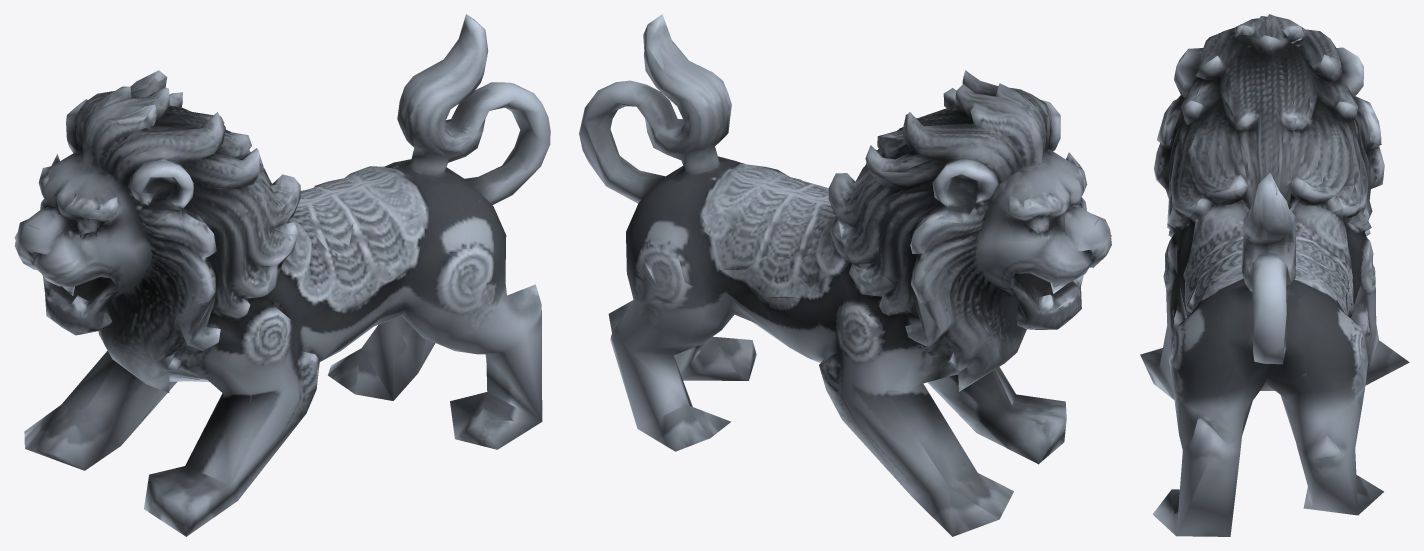
File: zoushou-shizi.glb
The picture shows the model from 3 angles, left to right: view 1: azimuth 30°, elevation 25°; view 2: azimuth 150°, elevation 25°; view 3: azimuth 270°, elevation 25°; orthographic projection. The views are drawn at different scales.
Visible parts, largest first — view 1: 走兽狮子; view 2: 走兽狮子; view 3: 走兽狮子.
Part boxes in pixels (x1=…): 走兽狮子: x1=14, y1=14, x2=550, y2=536; 走兽狮子: x1=579, y1=14, x2=1111, y2=536; 走兽狮子: x1=1140, y1=14, x2=1409, y2=536.
Bounding box in the file's own units: 0.4177 × 0.3 × 0.1993.
Materials: 1 (1 with a texture image).
